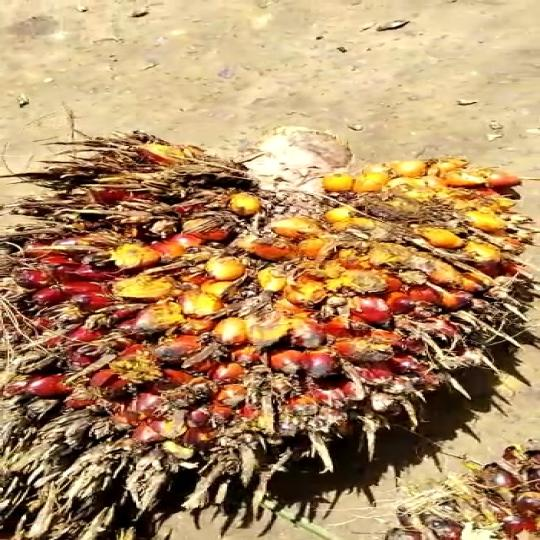masak: (0, 122, 540, 520)
